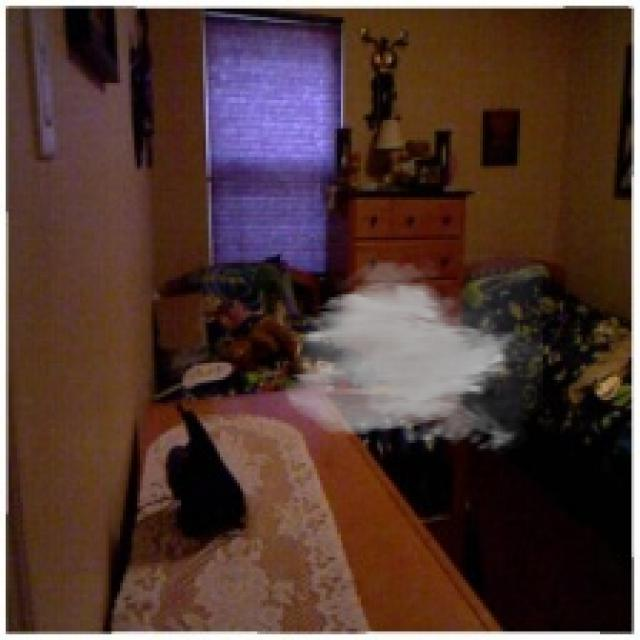smoke: (280, 254, 543, 457)
